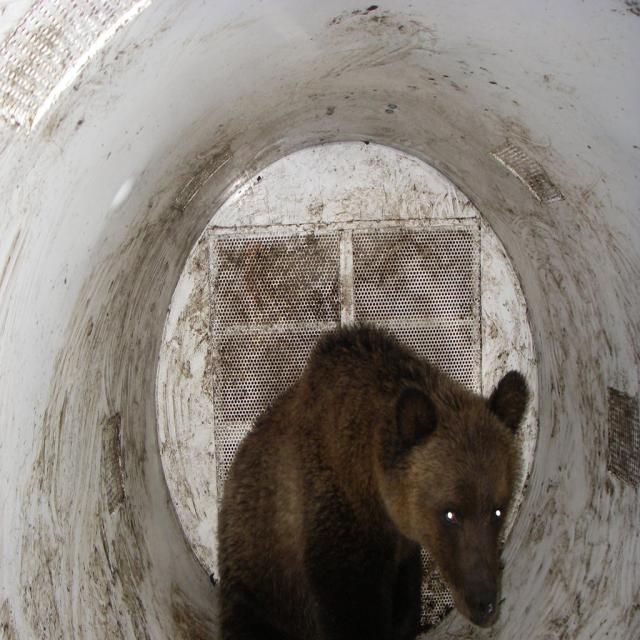Cheetahs: (218, 318, 535, 640)
